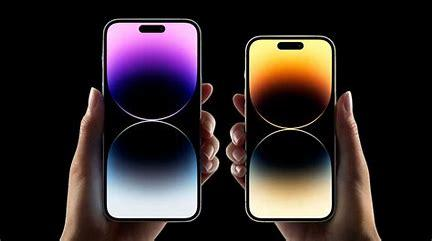-iphone: (81, 8, 361, 237), (94, 13, 214, 228), (243, 32, 342, 225)
